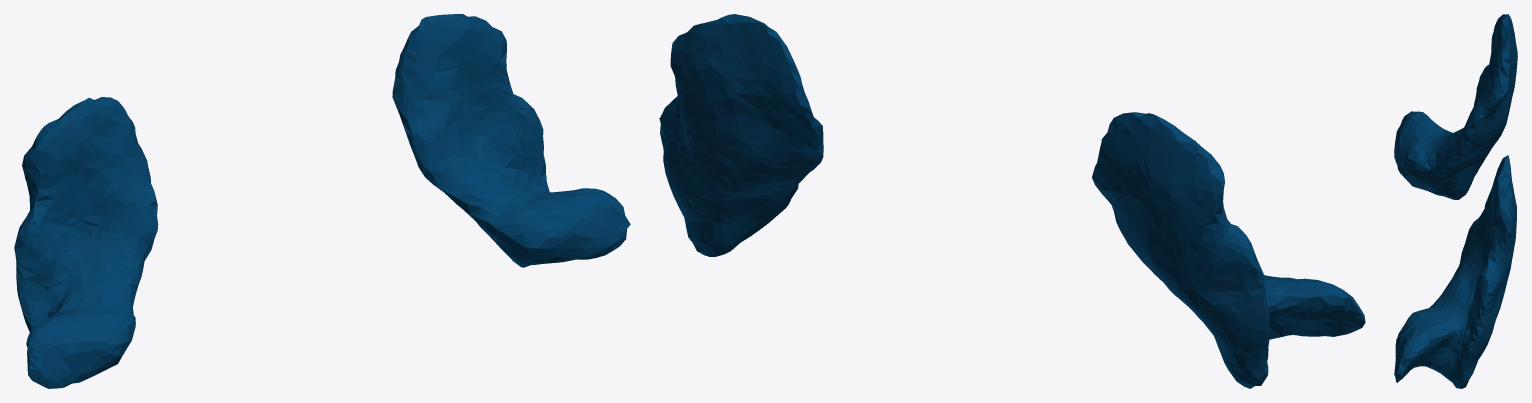
File: 43-MT(V5)-middle temporal area (visual area 5)-('0.0000', '0.3059', '0.4980').obj
3 views of the same model, side by side, from view 1: azimuth 30°, elevation 25°; view 2: azimuth 150°, elevation 25°; view 3: azimuth 270°, elevation 25° (orthographic). The views are drawn at different scales.
Size of the model in its own units: 305 by 120 by 65.24.
